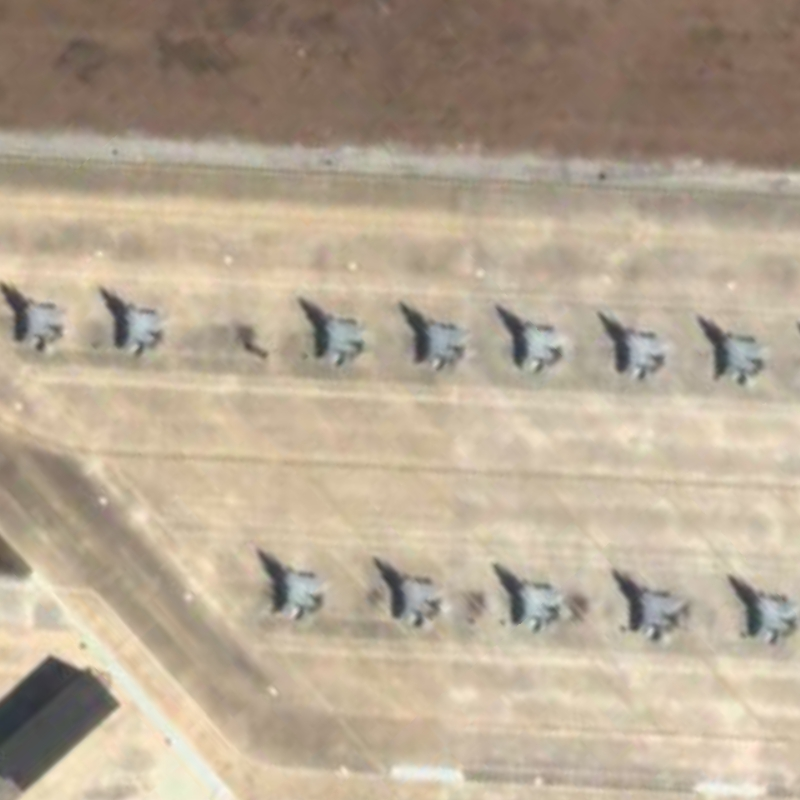A13: (254, 541, 332, 624), (370, 552, 450, 631), (293, 291, 371, 371), (691, 311, 773, 387), (490, 300, 571, 376), (490, 559, 570, 635), (100, 278, 173, 359), (396, 296, 472, 373), (600, 306, 675, 382), (726, 570, 800, 647), (611, 564, 687, 638), (5, 273, 73, 355)
